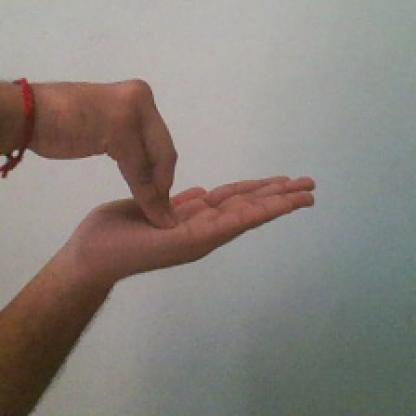Z: (58, 73, 328, 274)
